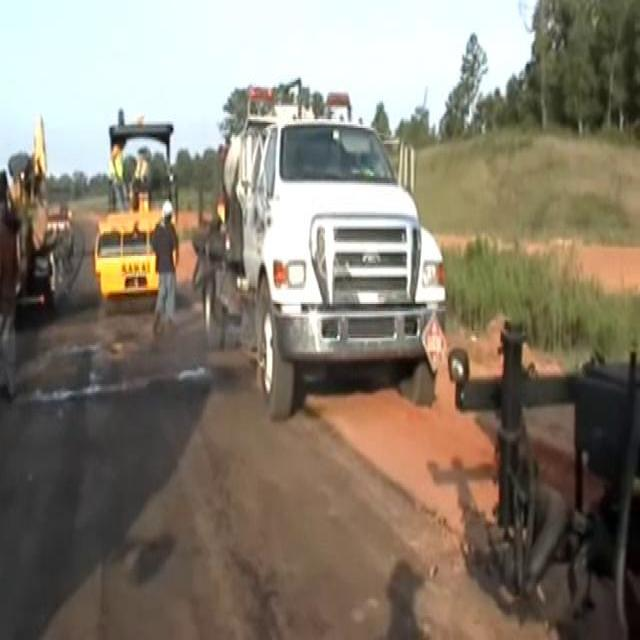dump_truck: (196, 64, 450, 428)
